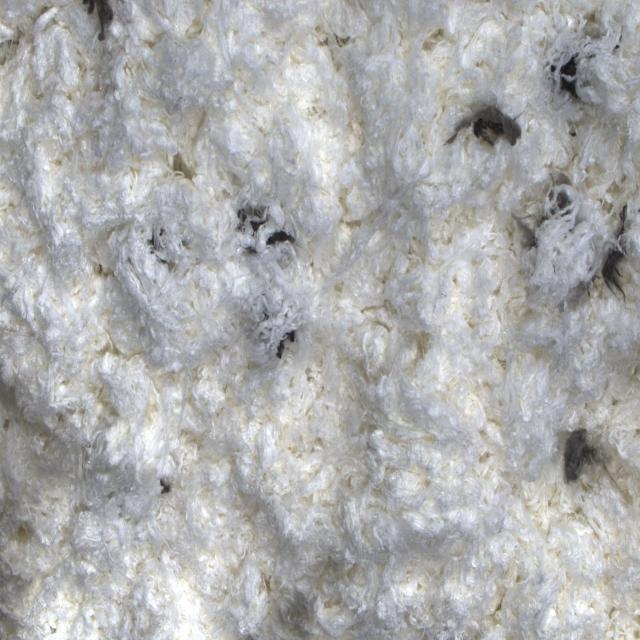dust: (520, 165, 633, 317), (559, 391, 640, 533), (550, 23, 633, 124), (218, 180, 303, 260), (442, 97, 526, 153), (77, 0, 126, 56), (252, 307, 299, 363), (144, 224, 176, 278)
